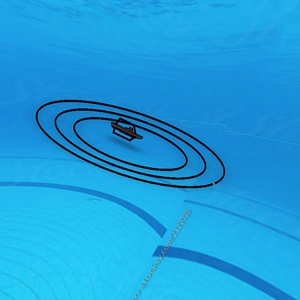circle: (19, 92, 241, 204)
submarine: (111, 113, 138, 142)
